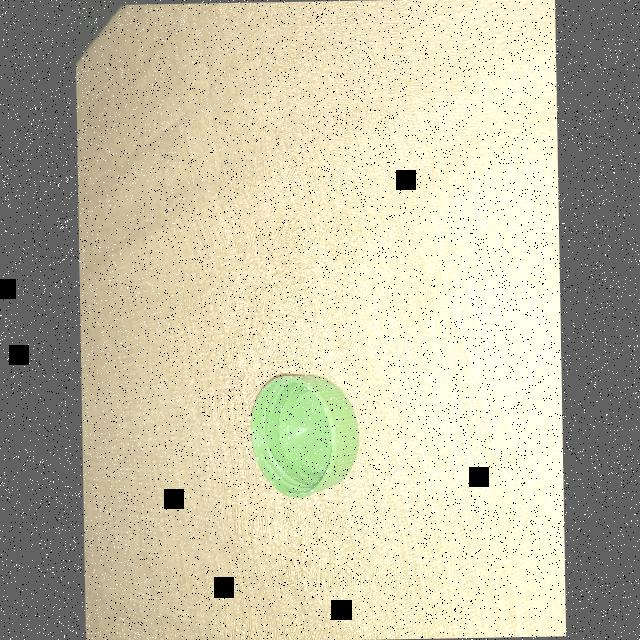plastic_bottle_cap: (248, 371, 358, 498)
